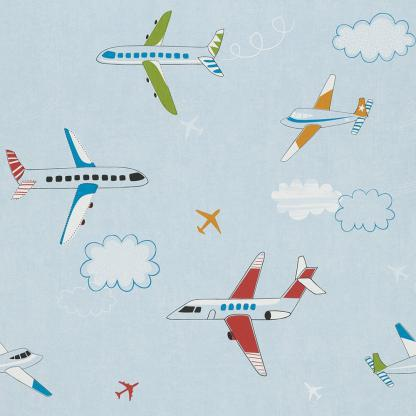CIV_Plane: (163, 253, 319, 385), (3, 128, 148, 247), (87, 7, 230, 115), (278, 72, 376, 172), (356, 316, 414, 398), (193, 207, 226, 238), (110, 374, 143, 404)
